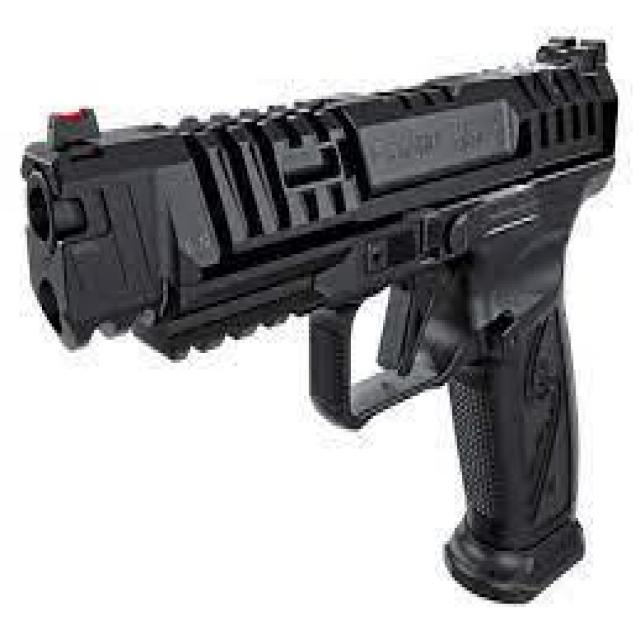pistol: (18, 23, 620, 607)
